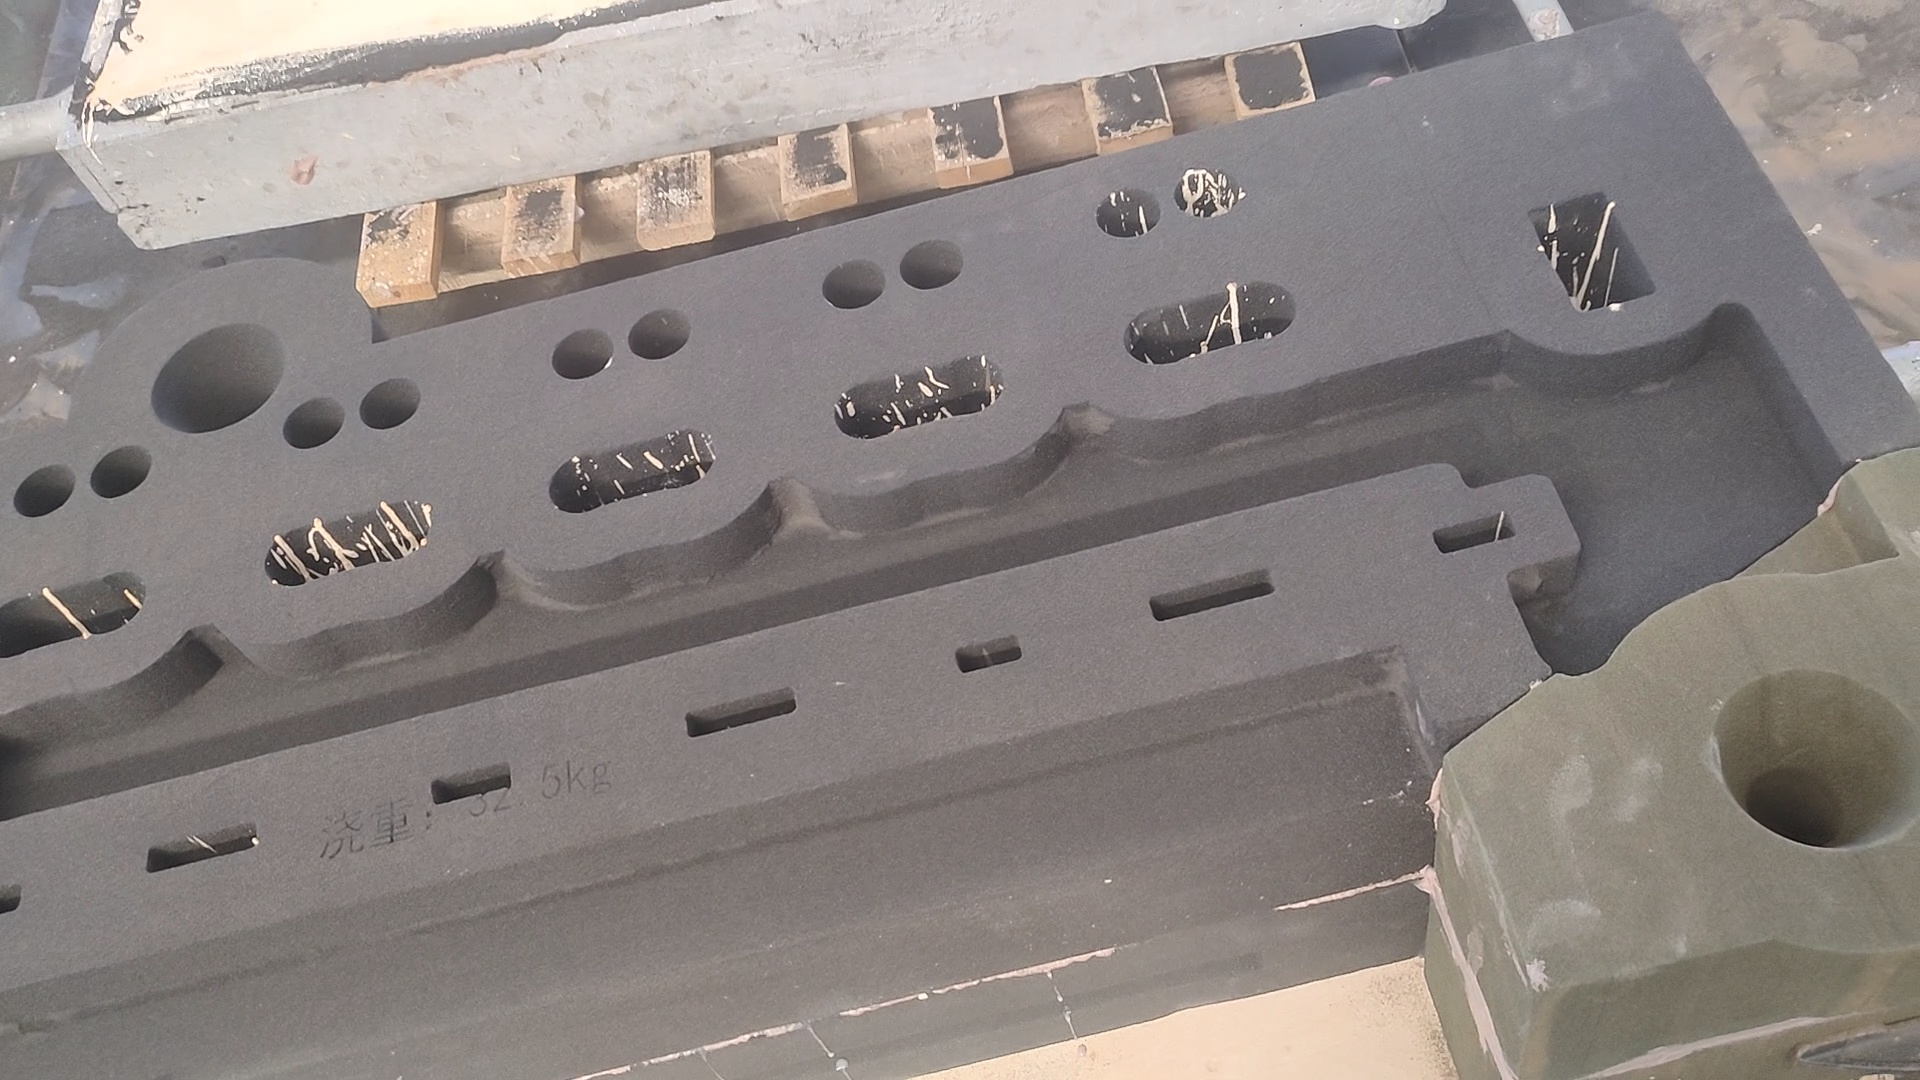pouring hole: (1710, 666, 1920, 851), (145, 320, 287, 435)
